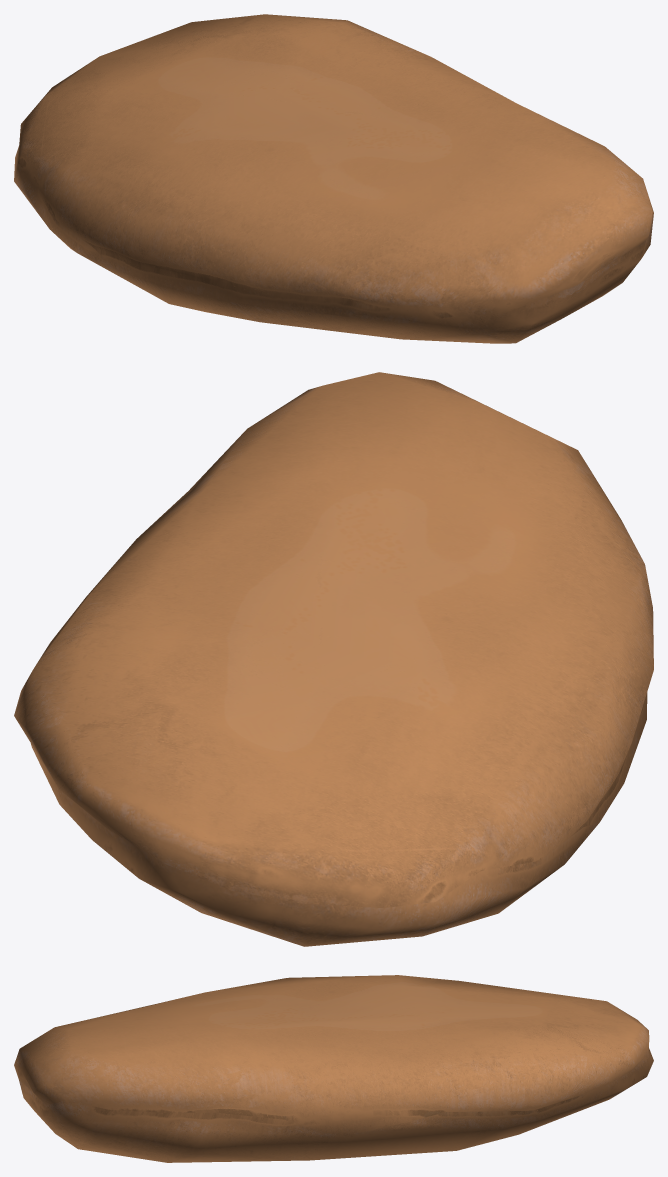
The model's file is rock2.fbx.
The picture shows the model from 3 angles, top to bottom: view 1: azimuth 30°, elevation 25°; view 2: azimuth 150°, elevation 25°; view 3: azimuth 270°, elevation 25°; orthographic projection. The views are drawn at different scales.
Visible parts, largest first — view 1: Cube.087; view 2: Cube.087; view 3: Cube.087.
Part boxes in pixels (x1=…): Cube.087: x1=14, y1=14, x2=653, y2=343; Cube.087: x1=14, y1=372, x2=653, y2=946; Cube.087: x1=14, y1=975, x2=653, y2=1162.
Bounding box in the file's own units: 106 × 45.21 × 170.
Materials: 1 (1 with a texture image).
